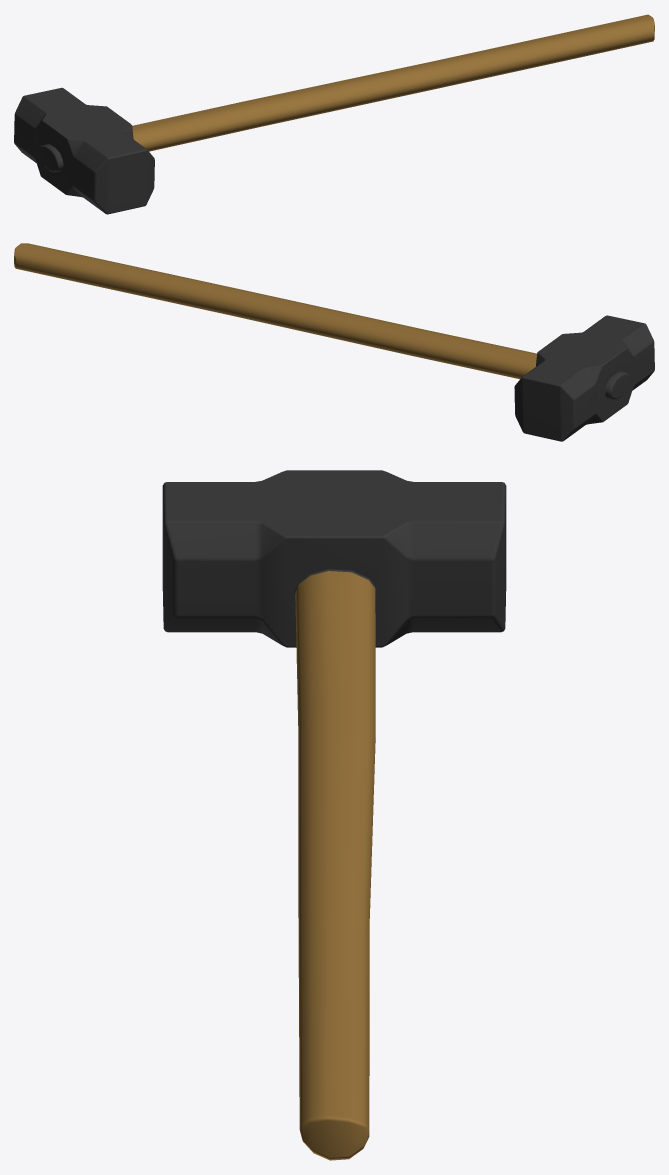
The model's file is hammer.fbx.
3 renders of one model, top to bottom at view 1: azimuth 30°, elevation 25°; view 2: azimuth 150°, elevation 25°; view 3: azimuth 270°, elevation 25°, orthographic. The views are drawn at different scales.
Visible parts, largest first — view 1: SledgeHammer_SledgeHammer_0; view 2: SledgeHammer_SledgeHammer_0; view 3: SledgeHammer_SledgeHammer_0.
Part boxes in pixels (x1,y1,x2,y2): SledgeHammer_SledgeHammer_0: (14, 14, 654, 214); SledgeHammer_SledgeHammer_0: (14, 243, 654, 441); SledgeHammer_SledgeHammer_0: (162, 470, 506, 1160).
Bounding box in the file's own units: 131 × 12.05 × 32.18.
